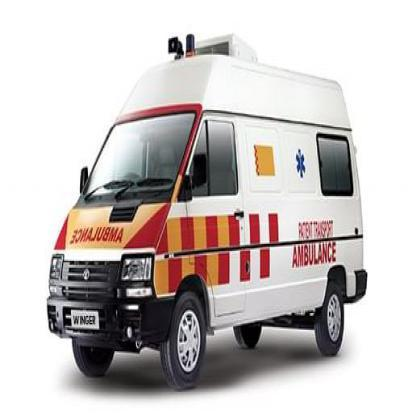Ambulance - v1 Ambulance last generate: (47, 30, 371, 374)
